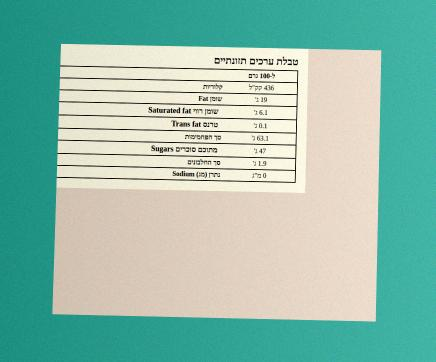carbs: (251, 133, 270, 143)
energy: (248, 83, 275, 93)
fat: (254, 95, 268, 104)
protein: (252, 159, 267, 168)
